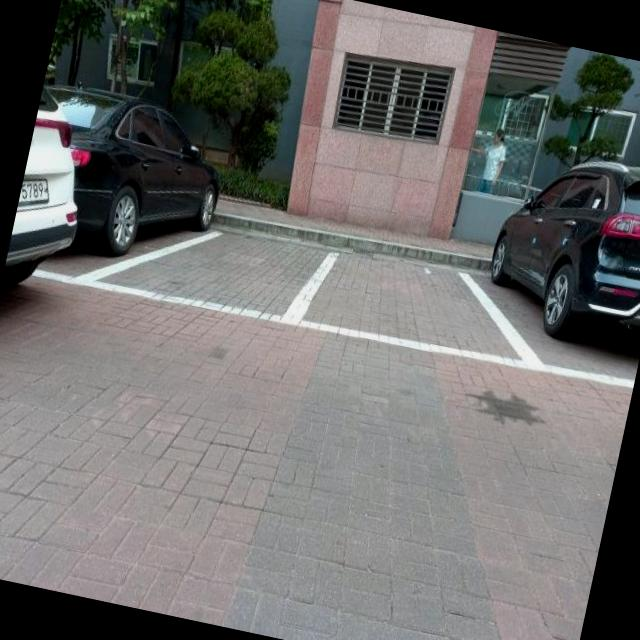car: (476, 142, 640, 364)
free: (134, 200, 330, 341), (312, 232, 498, 367)
